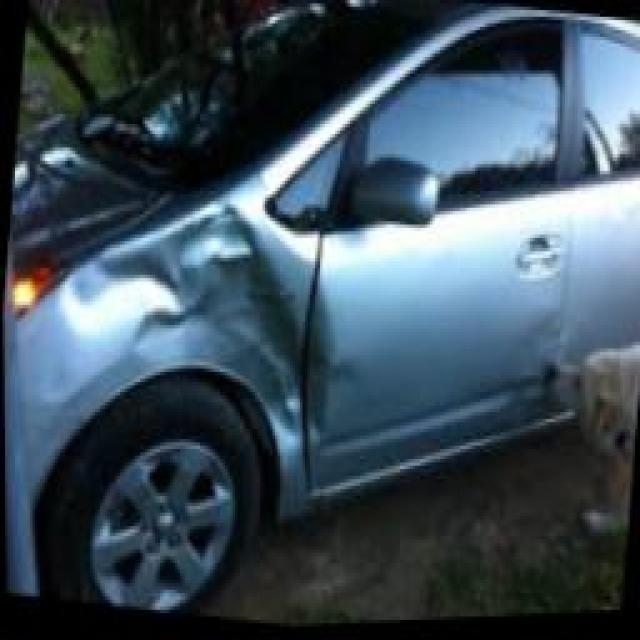rapairable: (502, 310, 575, 432)
replaceable: (69, 233, 348, 414)
